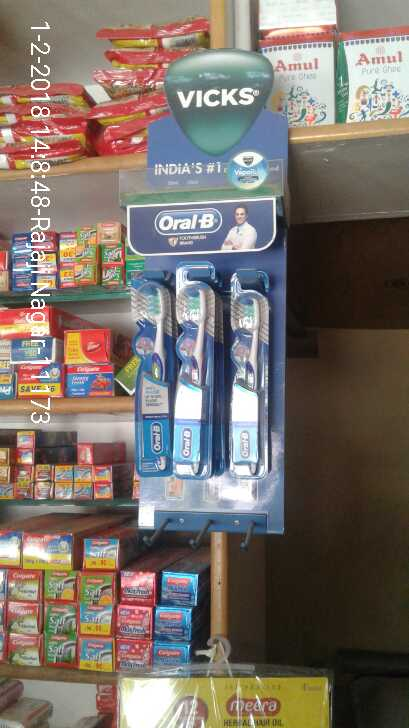oralb: (125, 279, 179, 471), (222, 279, 269, 476), (170, 278, 205, 458)
